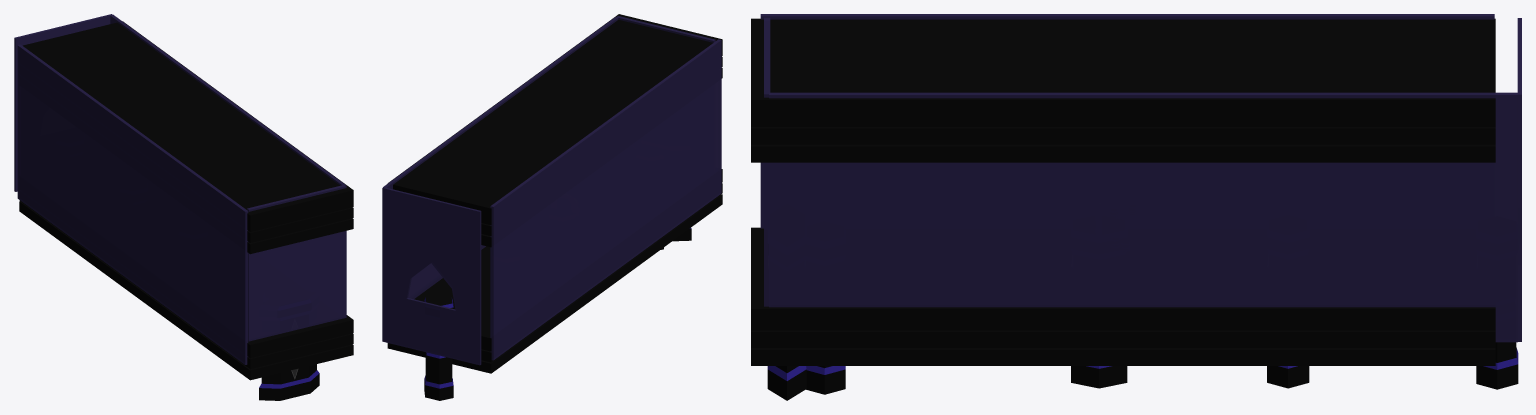
The model's file is mother_interiorv2(separated).fbx.
3 views of the same model, side by side, from view 1: azimuth 30°, elevation 25°; view 2: azimuth 150°, elevation 25°; view 3: azimuth 270°, elevation 25° (orthographic). The views are drawn at different scales.
Parts seen in each view (by area): view 1: pCube37, pCube2, pCylinder15; view 2: pCube37, pCube2, pCylinder14; view 3: pCube37, pCube2, pCylinder14, pCylinder15, pCylinder10, pCylinder12, pCylinder11.
Part boxes in pixels (x1,y1,x2,y2): pCube37: (14,14,353,380); pCube2: (17,44,248,364); pCylinder15: (259,364,319,400); pCube37: (382,14,722,373); pCube2: (490,39,721,360); pCylinder14: (424,294,453,400); pCube37: (751,17,1521,365); pCube2: (760,14,1494,228); pCylinder14: (1476,342,1518,389); pCylinder15: (767,366,806,400); pCylinder10: (1071,366,1127,388); pCylinder12: (806,366,845,394); pCylinder11: (1267,366,1309,388).
Bounding box in the file's own units: 20.31 × 37.45 × 79.71.
